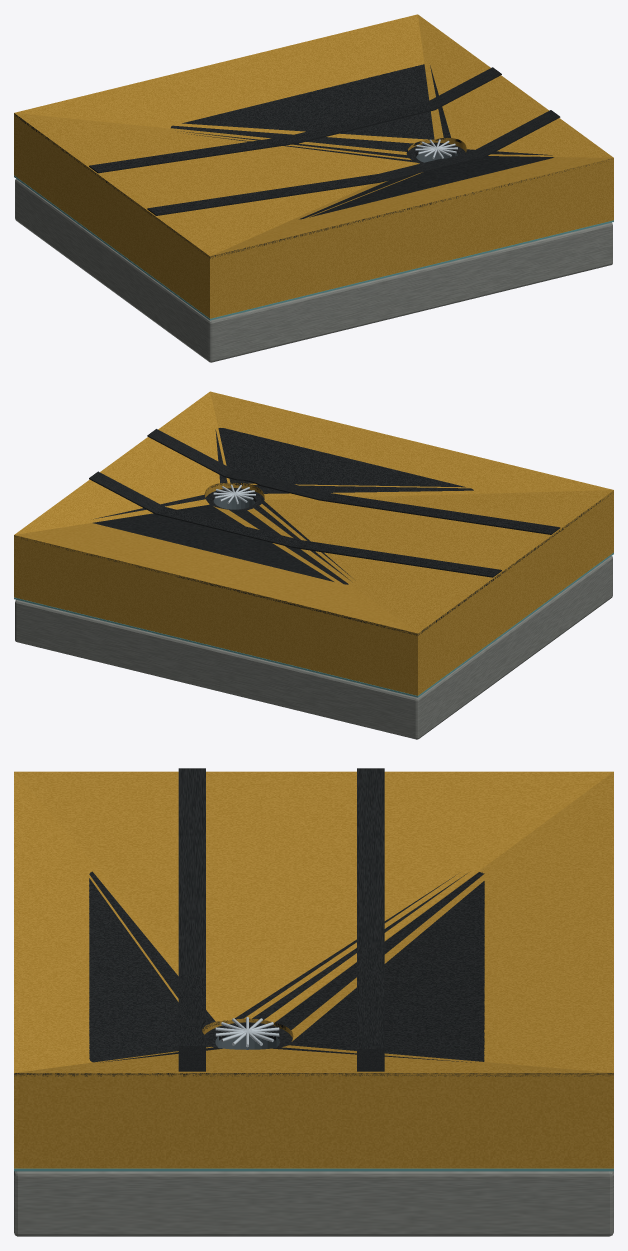
File: modell.glb
3 renders of one model, top to bottom at view 1: azimuth 30°, elevation 25°; view 2: azimuth 150°, elevation 25°; view 3: azimuth 270°, elevation 25°, orthographic. The views are drawn at different scales.
Parts seen in each view (by area): view 1: g06-gefaelle_daemmung, g06-untergrund_tragwerk, g06-abdichtung_deckung, g06-naht_deckung, g06-luftdichtheit_luftdichtheit, g06-ablauf_.002; view 2: g06-gefaelle_daemmung, g06-untergrund_tragwerk, g06-abdichtung_deckung, g06-naht_deckung, g06-luftdichtheit_luftdichtheit; view 3: g06-gefaelle_daemmung, g06-untergrund_tragwerk, g06-abdichtung_deckung, g06-naht_deckung, g06-luftdichtheit_luftdichtheit, g06-ablauf_.002, g06-flansch_, g06-ablauf_.
Boxes of the visible parts, bbox=[...] form: g06-gefaelle_daemmung: bbox=[14, 14, 613, 318]; g06-untergrund_tragwerk: bbox=[15, 179, 612, 362]; g06-abdichtung_deckung: bbox=[14, 64, 608, 258]; g06-naht_deckung: bbox=[89, 67, 560, 215]; g06-luftdichtheit_luftdichtheit: bbox=[14, 175, 613, 320]; g06-ablauf_.002: bbox=[415, 139, 457, 158]; g06-gefaelle_daemmung: bbox=[14, 391, 613, 695]; g06-untergrund_tragwerk: bbox=[15, 556, 612, 739]; g06-abdichtung_deckung: bbox=[14, 428, 610, 635]; g06-naht_deckung: bbox=[89, 429, 560, 577]; g06-luftdichtheit_luftdichtheit: bbox=[14, 552, 613, 697]; g06-gefaelle_daemmung: bbox=[14, 771, 613, 1168]; g06-untergrund_tragwerk: bbox=[14, 1171, 613, 1236]; g06-abdichtung_deckung: bbox=[14, 871, 613, 1076]; g06-naht_deckung: bbox=[178, 768, 384, 1071]; g06-luftdichtheit_luftdichtheit: bbox=[14, 1168, 613, 1171]; g06-ablauf_.002: bbox=[215, 1017, 279, 1047]; g06-flansch_: bbox=[205, 1022, 292, 1047]; g06-ablauf_: bbox=[215, 1035, 279, 1049].
Size of the model in its own units: 2.2 by 0.571 by 1.85.
6 materials, 3 textured.
